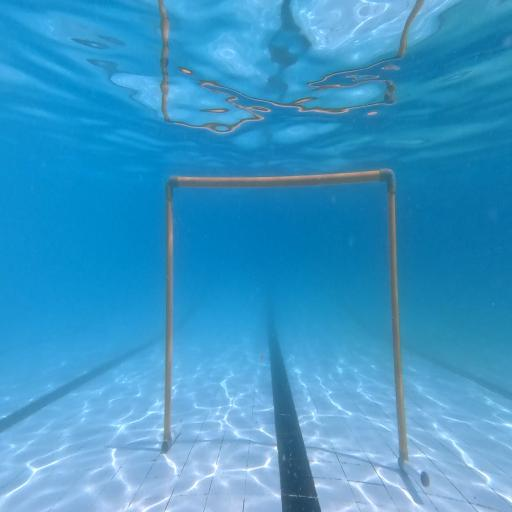gate: (161, 169, 430, 490)
